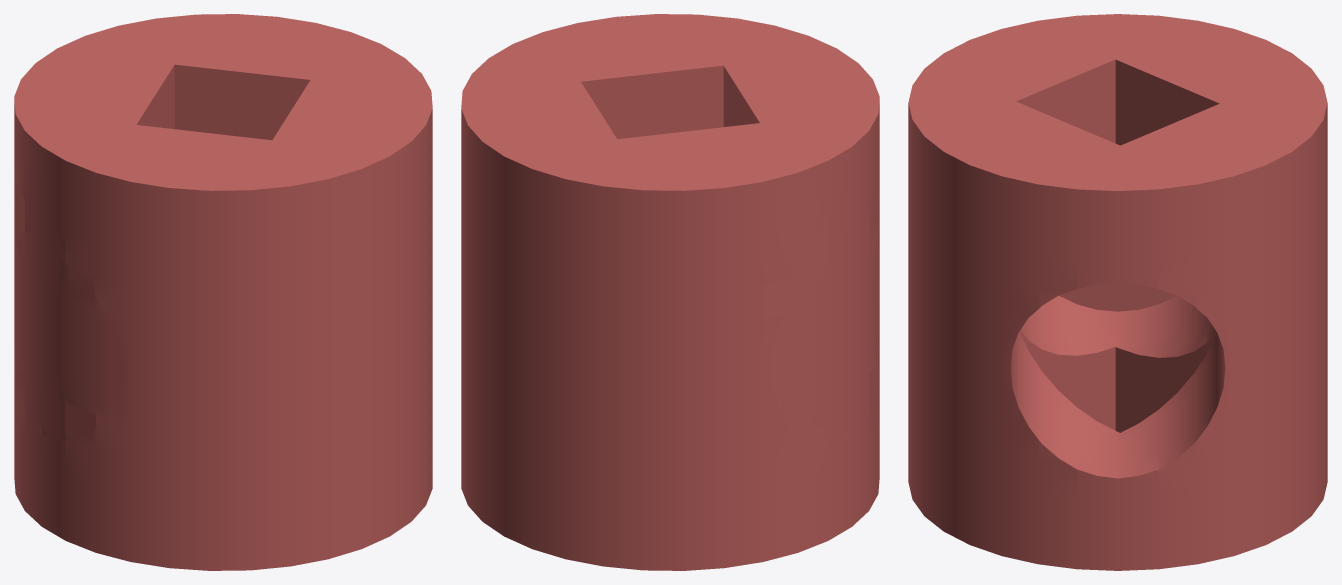
File: var_15.fbx
3 views of the same model, side by side, from view 1: azimuth 30°, elevation 25°; view 2: azimuth 150°, elevation 25°; view 3: azimuth 270°, elevation 25° (orthographic).
Parts seen in each view (by area): view 1: Cylinder; view 2: Cylinder; view 3: Cylinder.
Boxes of the visible parts, <box> form: Cylinder: <box>14,14,432,570</box>; Cylinder: <box>461,14,879,570</box>; Cylinder: <box>908,14,1327,570</box>.
Size of the model in its own units: 2 by 2 by 2.
